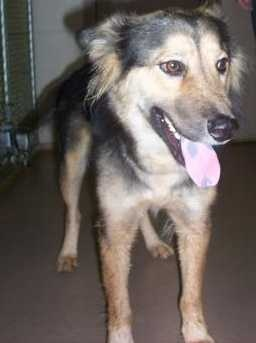Dog: (40, 7, 242, 299)
